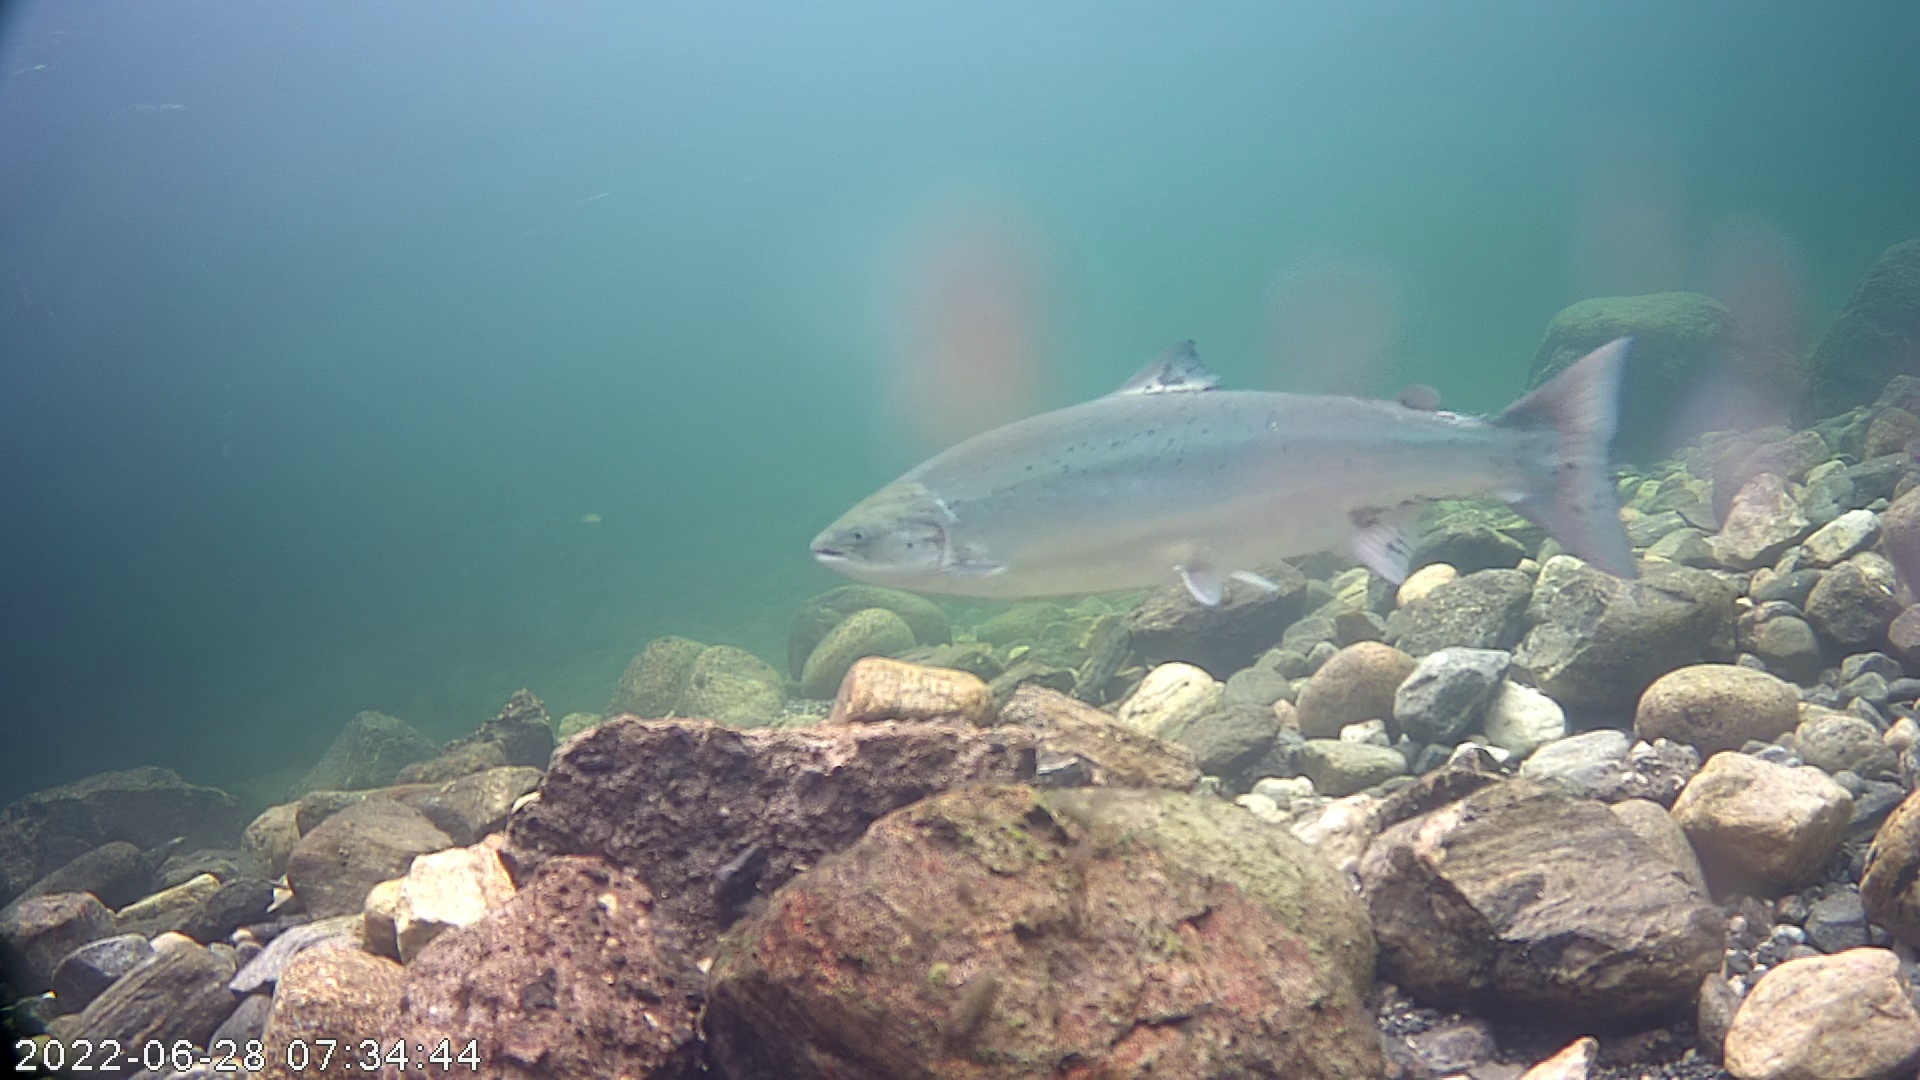salmon: (800, 243, 1667, 667)
